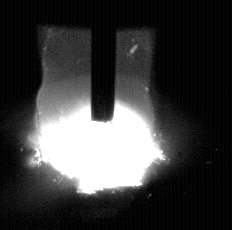arame: (91, 0, 116, 125)
poca: (34, 0, 156, 230)
